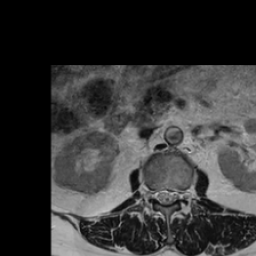CCS_stenosis: (162, 179, 168, 213)
LFS_normal: (176, 181, 185, 207)
LLS_normal: (168, 184, 176, 208)
RFS_normal: (146, 180, 155, 207)
RLS_normal: (155, 181, 162, 208)
